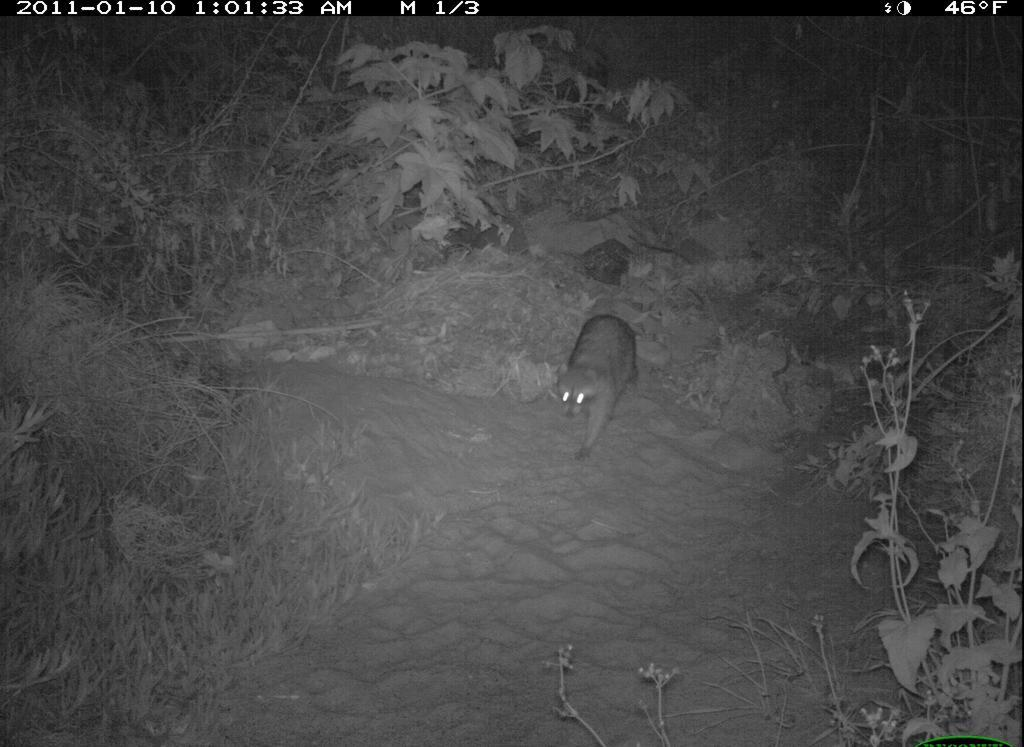raccoon: (539, 300, 658, 474)
